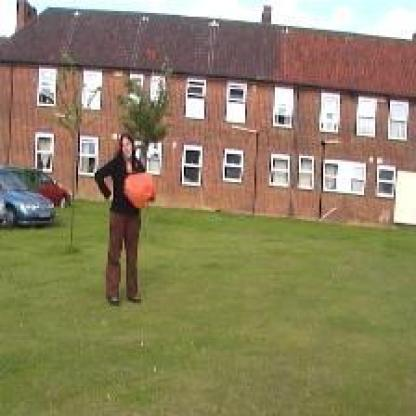other: (115, 169, 166, 209)
